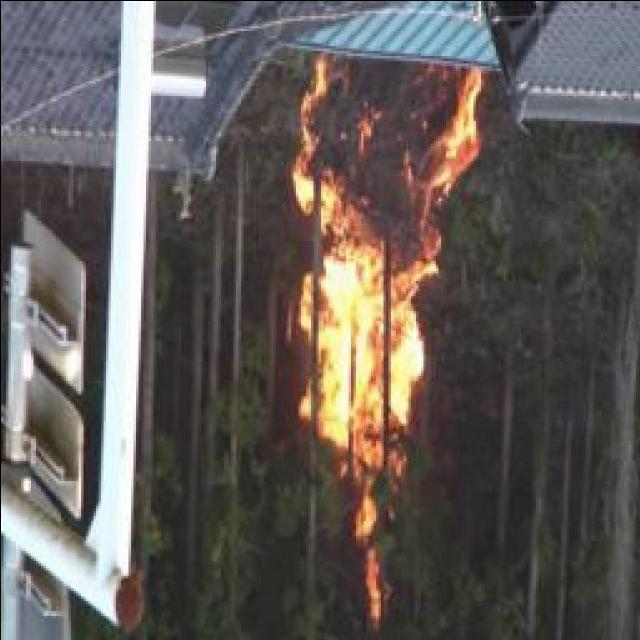Fire: (288, 47, 480, 618)
